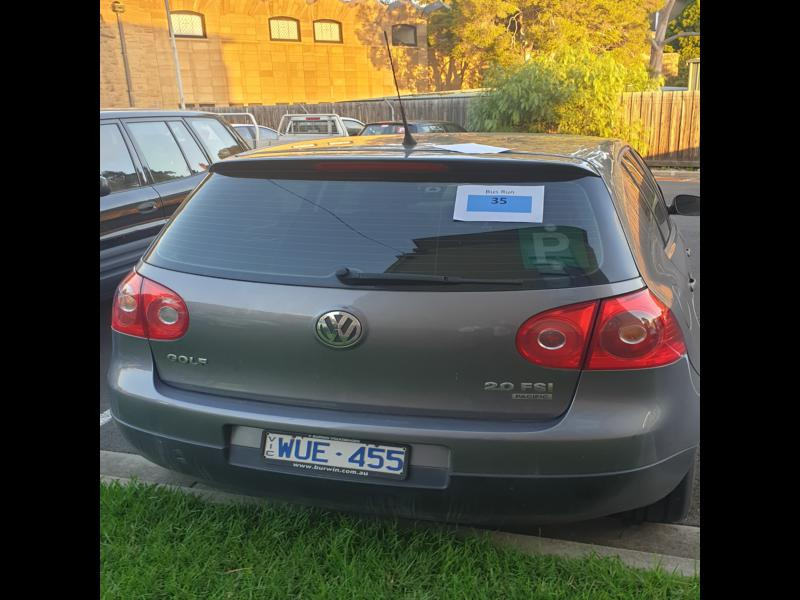BusRun: (465, 193, 532, 214)
PlateNo: (264, 430, 407, 478)
